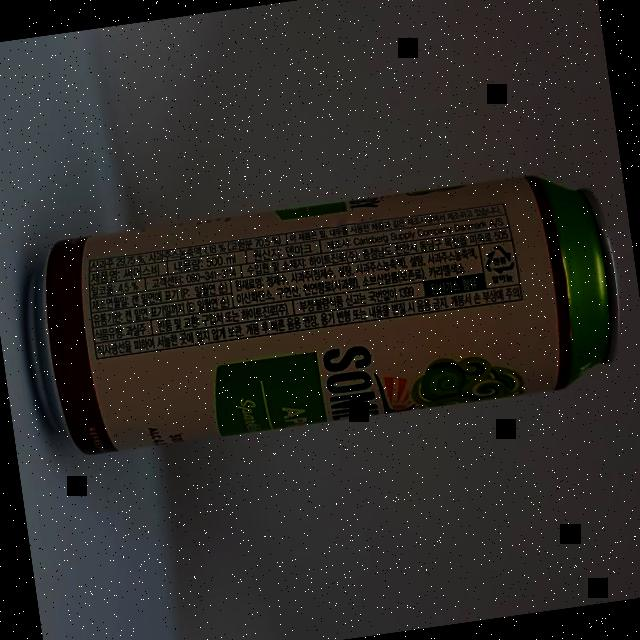can: (12, 165, 630, 463)
